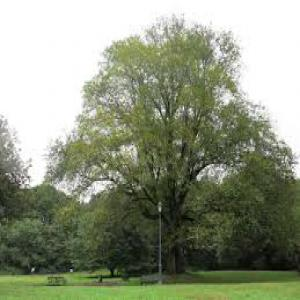Tree: (49, 6, 280, 271)
